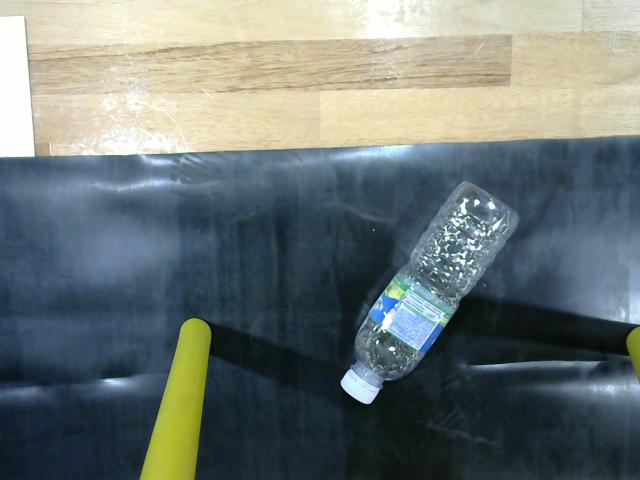bottle: (331, 174, 531, 416)
